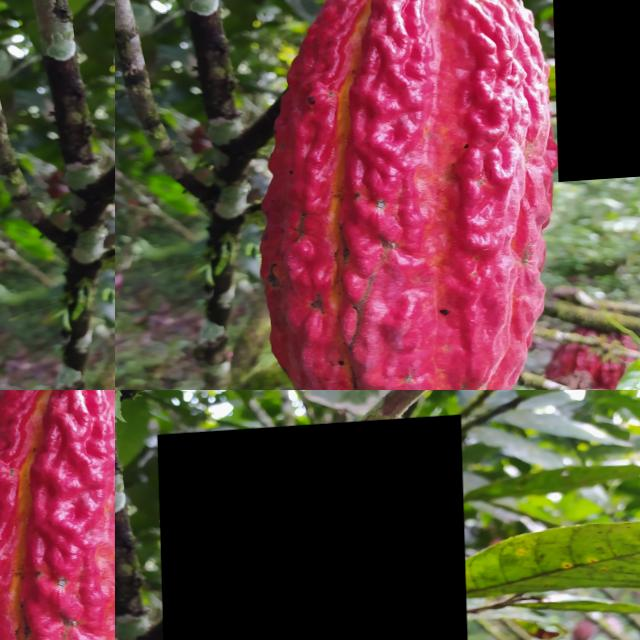Fitoftora: (315, 0, 562, 212)
Sana: (156, 420, 472, 640), (30, 435, 115, 640), (549, 0, 640, 188)
